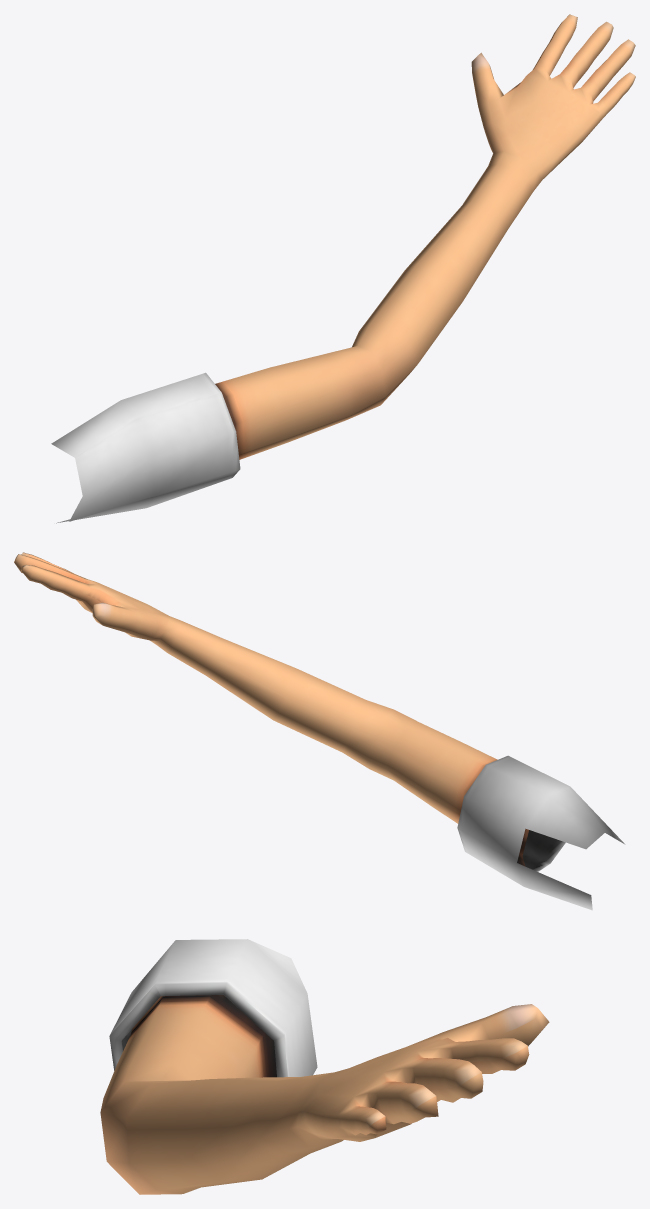
Rendered from nurse_leaning_waving_arm.glb.
3 views of the same model, one above another, from view 1: azimuth 30°, elevation 25°; view 2: azimuth 150°, elevation 25°; view 3: azimuth 270°, elevation 25° (orthographic). The views are drawn at different scales.
Parts seen in each view (by area): view 1: world; view 2: world; view 3: world.
Part boxes in pixels (x1,y1,x2,y2): world: (51,14,635,523); world: (14,552,625,910); world: (100,939,549,1194).
Bounding box in the file's own units: 0.5348 × 0.2397 × 0.1884.
1 material, 1 textured.
